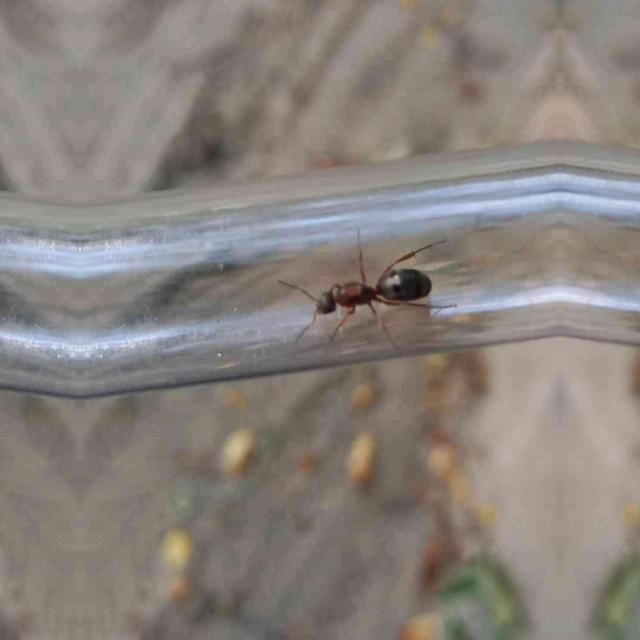Formica: (296, 244, 434, 338)
